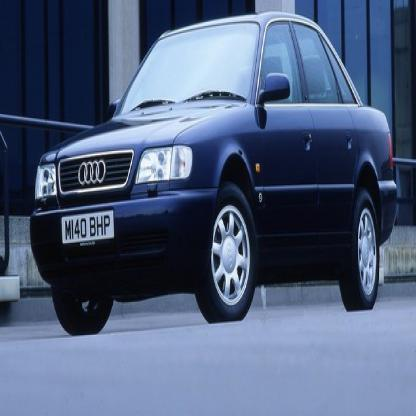Vehicle: (32, 12, 400, 339)
